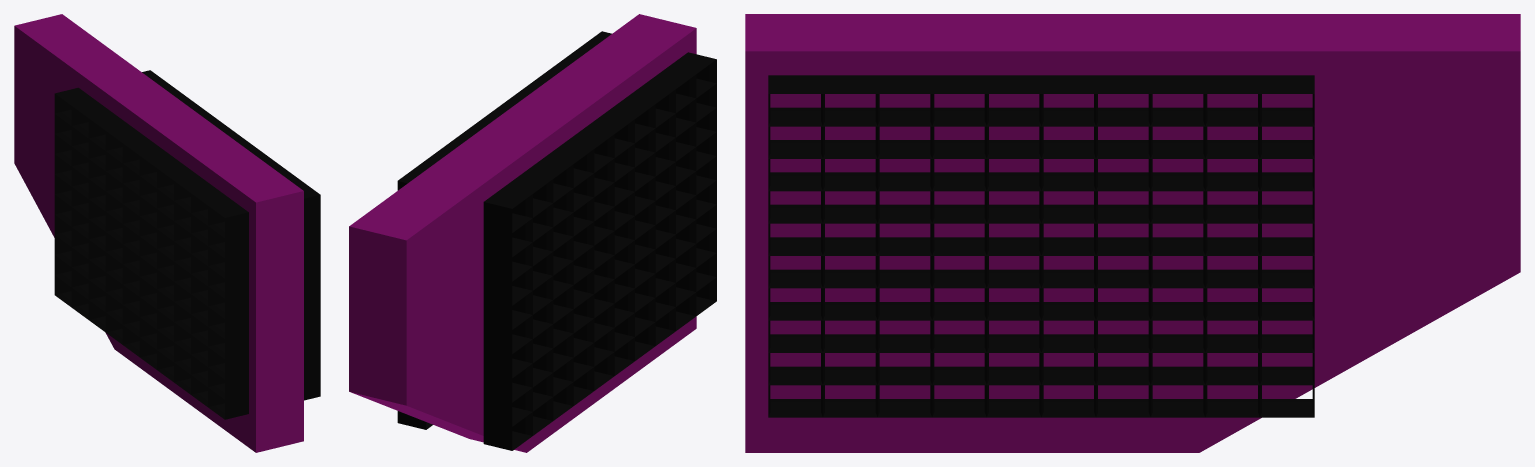
Rendered from doorwing.glb.
3 renders of one model, left to right at view 1: azimuth 30°, elevation 25°; view 2: azimuth 150°, elevation 25°; view 3: azimuth 270°, elevation 25°, orthographic. The views are drawn at different scales.
Parts seen in each view (by area): view 1: Cube.019, Wing, Cube.001; view 2: Cube.019, Wing, Cube.001; view 3: Wing, Cube.001.
Part boxes in pixels (box(x1,y1,x2,y2)): Cube.019: box(54, 87, 248, 419); Wing: box(14, 14, 303, 452); Cube.001: box(142, 70, 320, 400); Cube.019: box(483, 52, 716, 450); Wing: box(349, 14, 696, 452); Cube.001: box(397, 31, 611, 429); Wing: box(745, 14, 1520, 452); Cube.001: box(768, 75, 1314, 417).
Bounding box in the file's own units: 0.8 × 2 × 3.5.
